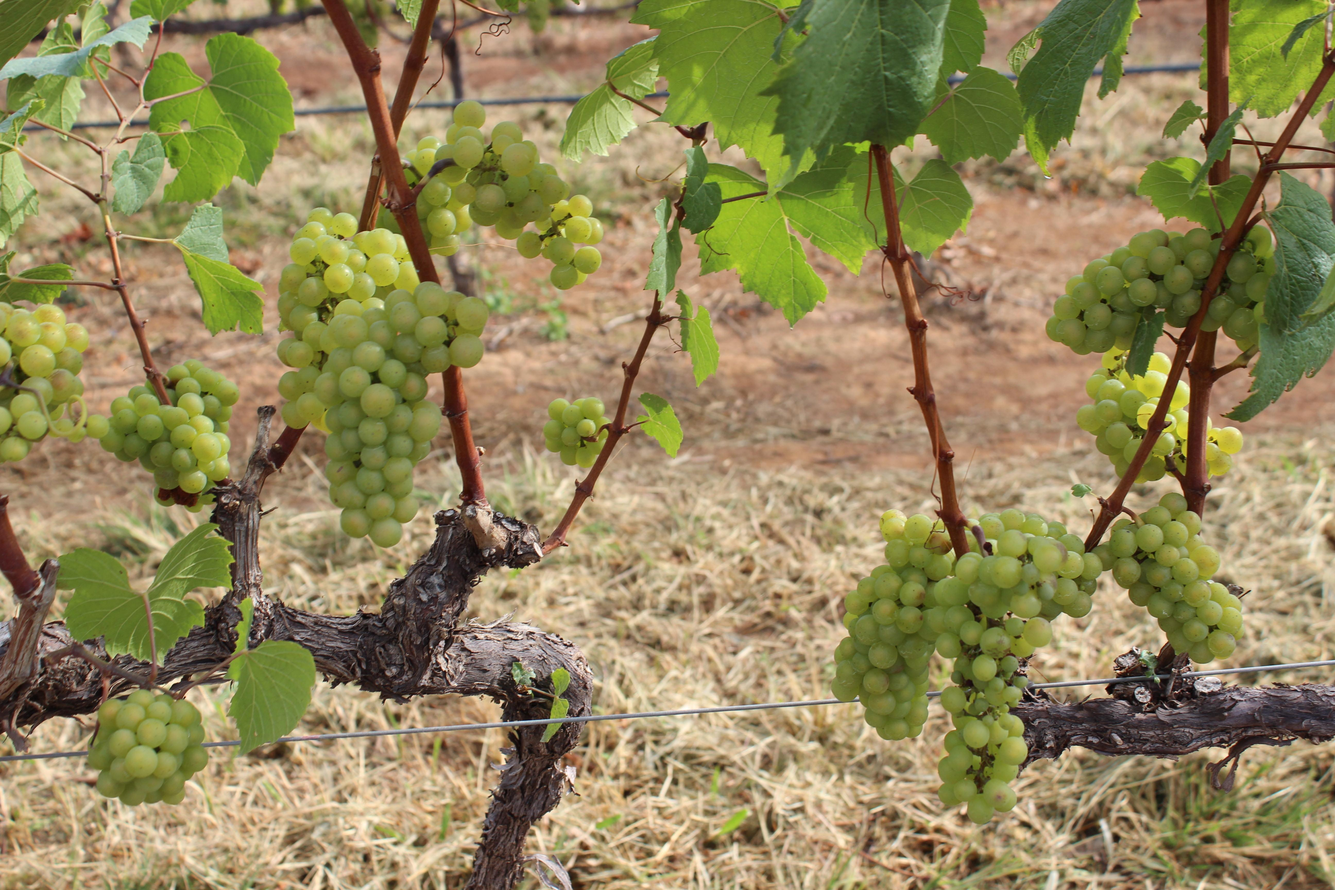leaf: (762, 0, 950, 159), (631, 0, 793, 184), (1227, 173, 1335, 420), (1017, 0, 1139, 172), (206, 34, 295, 184), (560, 38, 658, 161), (1229, 0, 1327, 117), (919, 66, 1022, 164), (227, 640, 316, 753), (0, 16, 151, 79), (1137, 157, 1251, 231), (900, 159, 973, 256), (182, 249, 263, 334), (1188, 106, 1244, 198), (0, 0, 80, 62), (112, 131, 166, 215), (676, 290, 720, 386), (644, 197, 682, 299), (0, 252, 73, 304), (939, 0, 987, 77), (0, 151, 38, 247), (682, 146, 722, 234), (173, 203, 229, 261), (636, 392, 683, 457), (1126, 311, 1166, 377), (0, 98, 44, 153), (1163, 99, 1204, 138), (131, 0, 194, 22), (234, 596, 253, 652), (777, 0, 791, 6), (821, 64, 828, 74), (824, 109, 833, 112), (933, 66, 935, 77), (4, 3, 9, 6), (788, 149, 791, 153), (1012, 64, 1014, 69), (798, 165, 800, 169), (0, 7, 3, 9), (1013, 50, 1014, 53), (794, 171, 795, 172), (220, 220, 220, 227)
